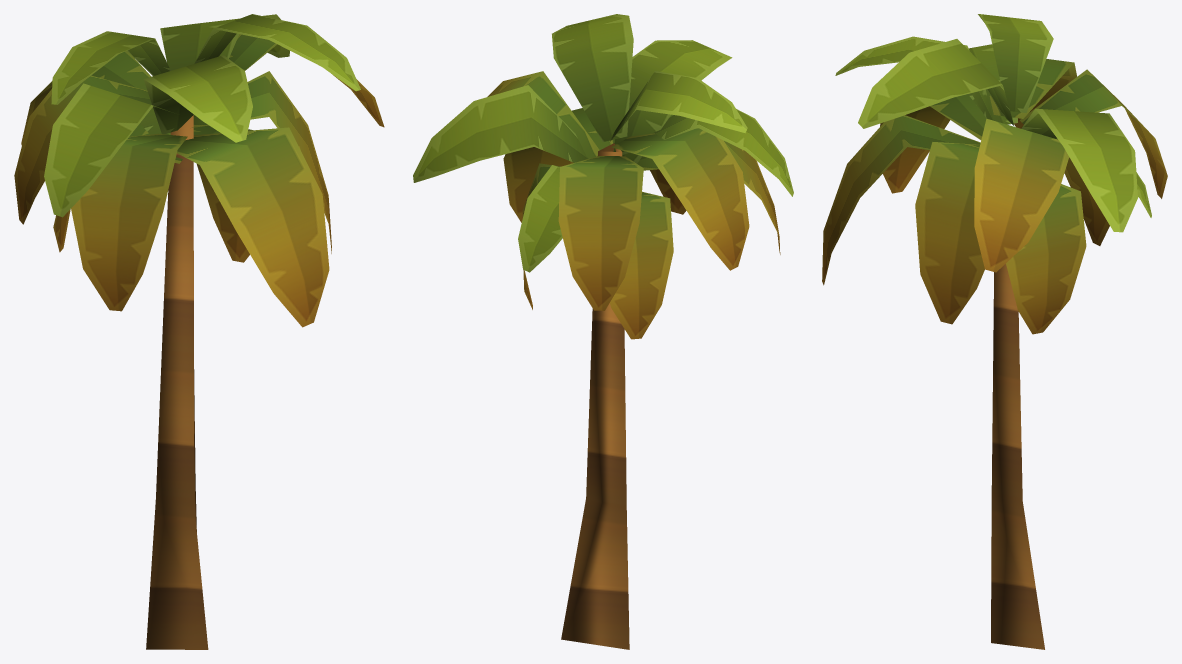
File: Tree.fbx
3 renders of one model, left to right at view 1: azimuth 30°, elevation 25°; view 2: azimuth 150°, elevation 25°; view 3: azimuth 270°, elevation 25°, orthographic. The views are drawn at different scales.
Visible parts, largest first — view 1: Tree; view 2: Tree; view 3: Tree.
Boxes of the visible parts, x1,y1,x2,y2 form: Tree: (14, 14, 384, 649); Tree: (413, 14, 793, 649); Tree: (822, 14, 1167, 649).
Size of the model in its own units: 208 by 359 by 188.
